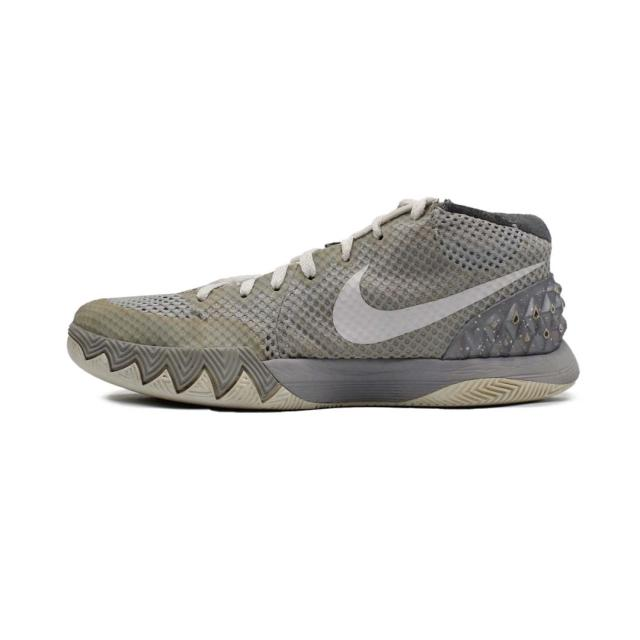heel: (516, 214, 564, 355)
midsole: (68, 320, 577, 407)
uppersole: (73, 204, 523, 358)
